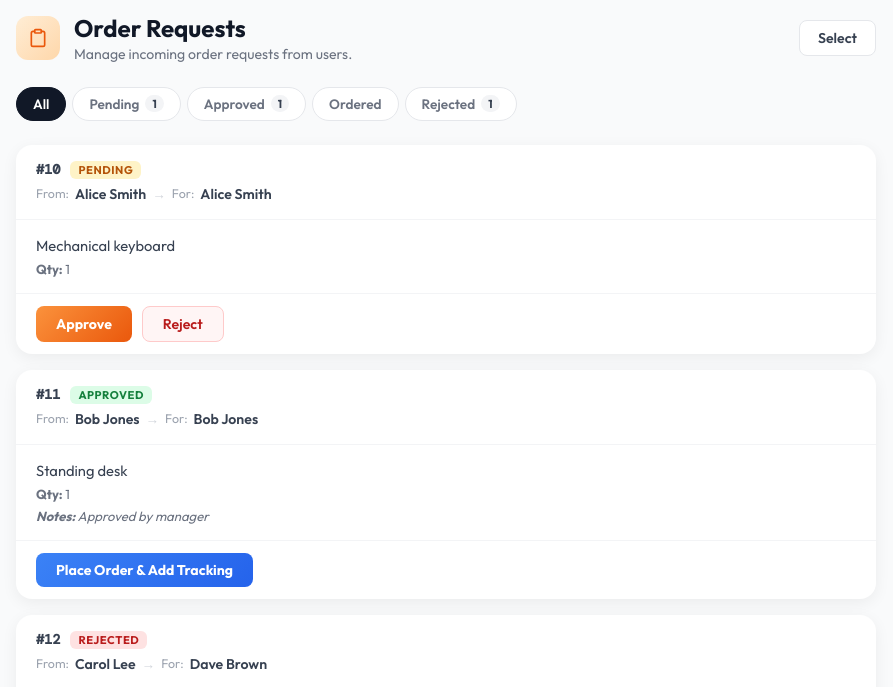
Test case: Status filter bar › clicking Pending hides approved and rejected requests
Click the button "Pending 1": {"x": 127, "y": 104} [72,87,181,121]
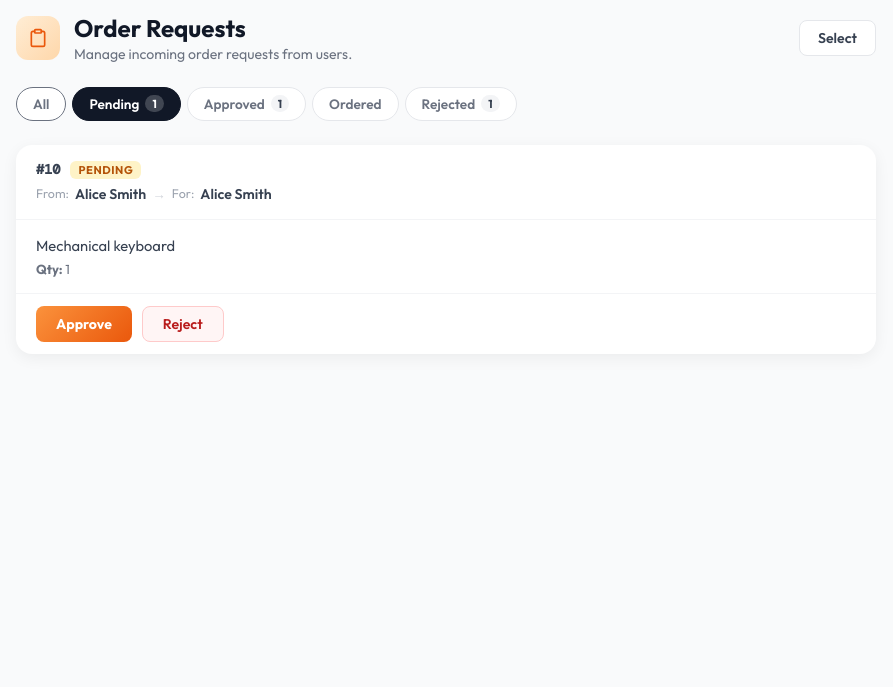
Check: the text "Mechanical keyboard" is shown, box [36,236,175,255]
Check: the text "Standing desk" is gone
